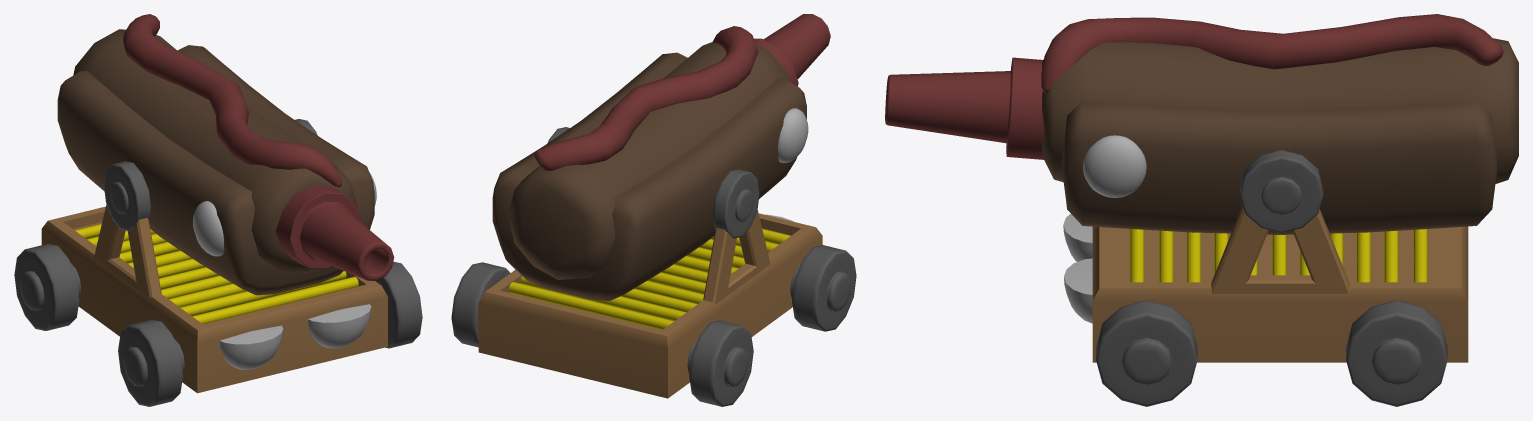
The model's file is hot dawg proper.fbx.
3 renders of one model, left to right at view 1: azimuth 30°, elevation 25°; view 2: azimuth 150°, elevation 25°; view 3: azimuth 270°, elevation 25°, orthographic. The views are drawn at different scales.
Parts seen in each view (by area): view 1: GRILL_PIECE_UVED3; view 2: GRILL_PIECE_UVED3; view 3: GRILL_PIECE_UVED3.
Part boxes in pixels (box(x1,y1,x2,y2)): GRILL_PIECE_UVED3: box(14, 14, 422, 406); GRILL_PIECE_UVED3: box(451, 14, 856, 406); GRILL_PIECE_UVED3: box(885, 14, 1518, 406).
Size of the model in its own units: 0.1625 by 0.1434 by 0.2672.
